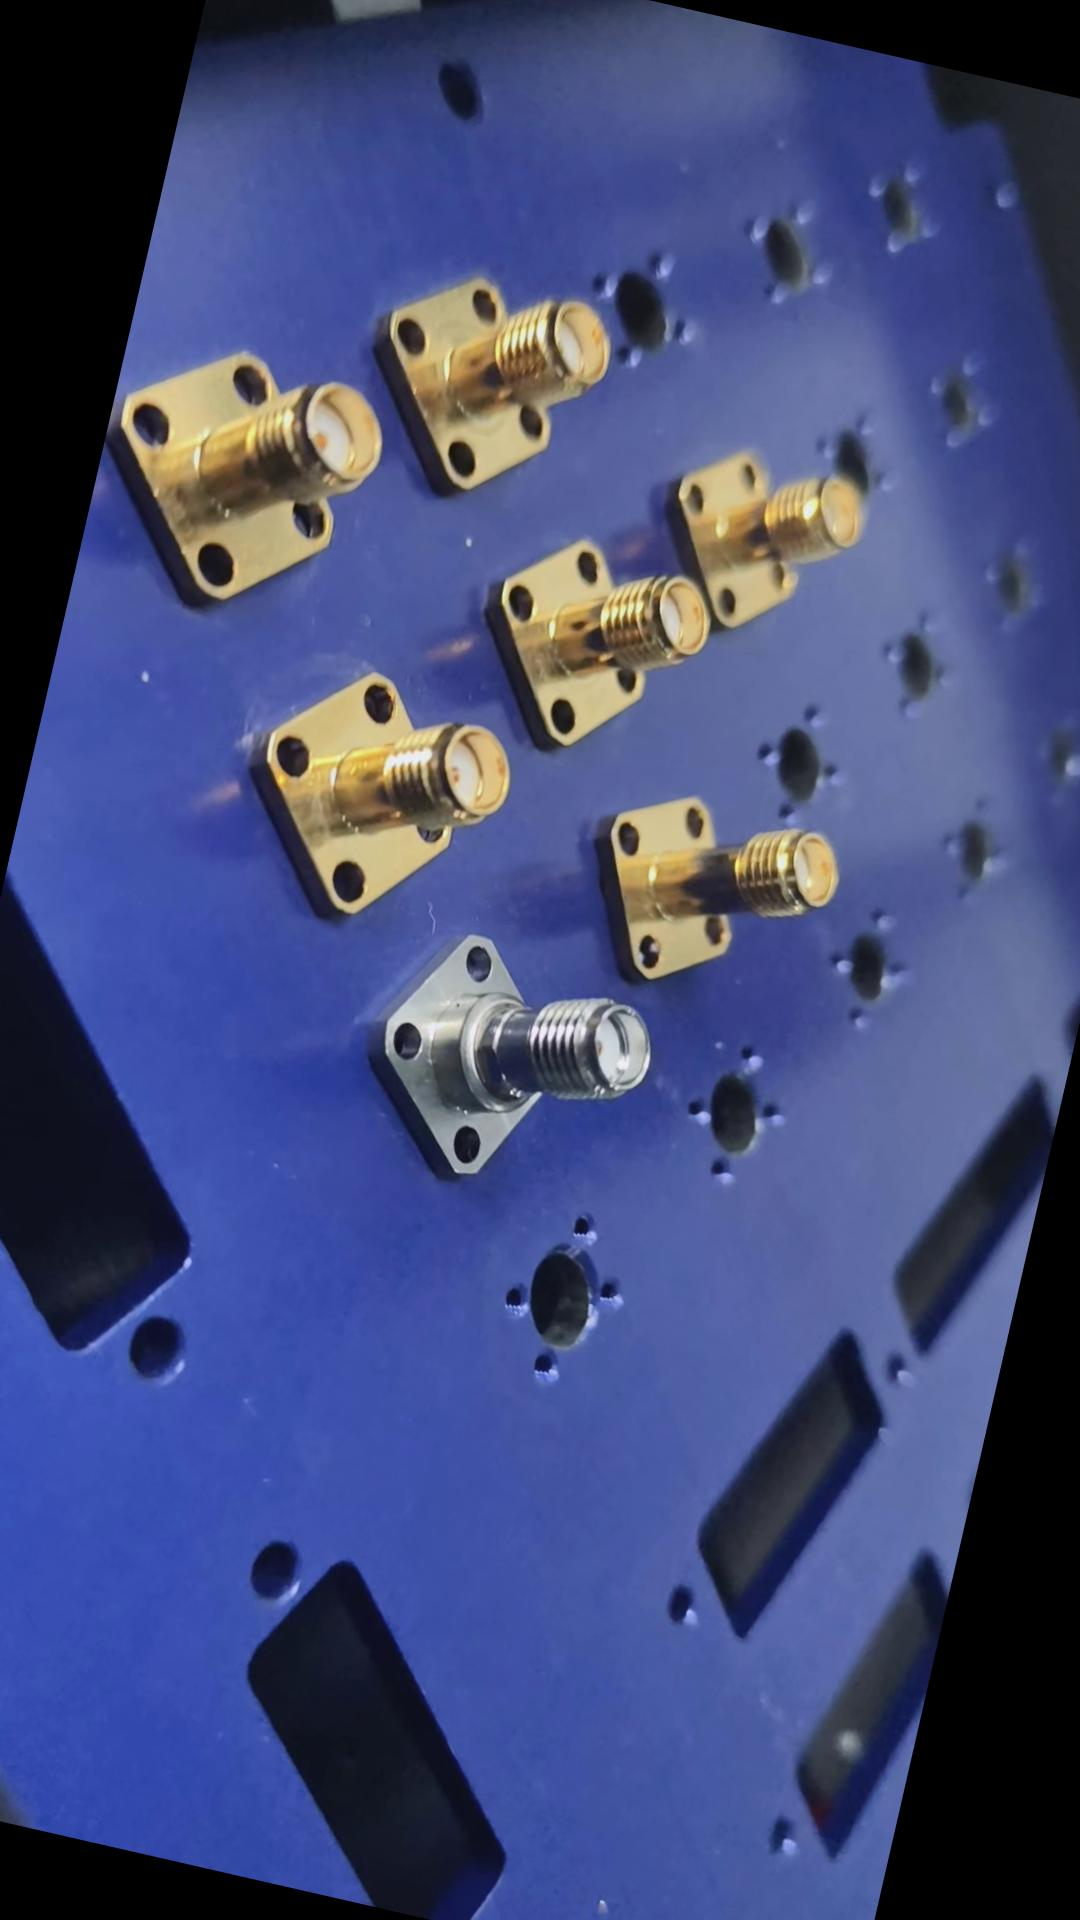SMA: (80, 318, 414, 638), (348, 898, 678, 1211), (222, 636, 527, 944), (348, 235, 622, 524), (580, 762, 861, 1021), (465, 497, 708, 769), (645, 425, 884, 665)
